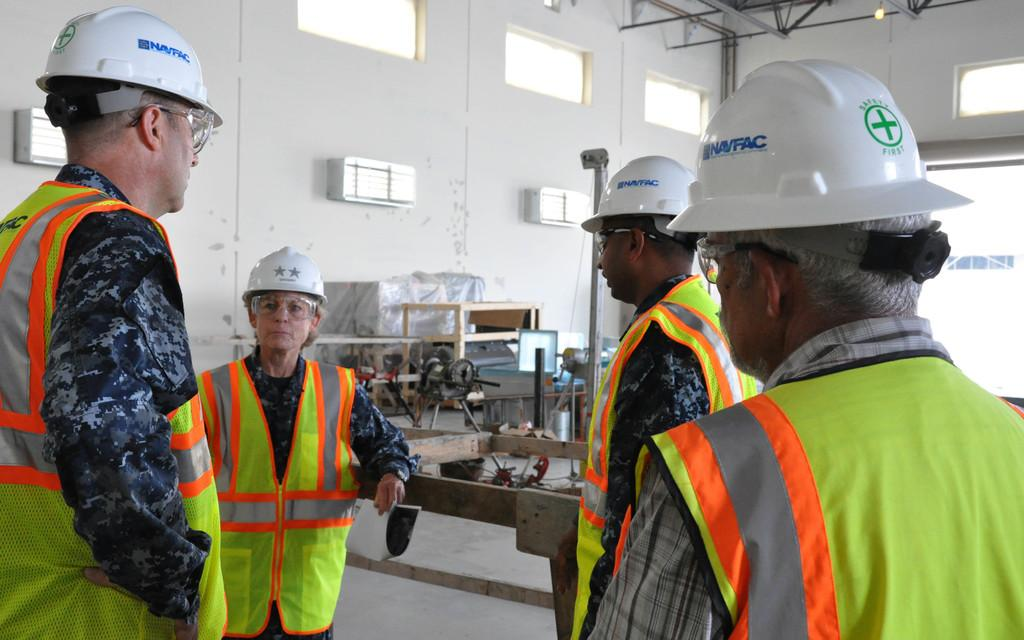helmet: (666, 58, 975, 374), (36, 5, 224, 213), (581, 155, 705, 301), (241, 246, 328, 350)
